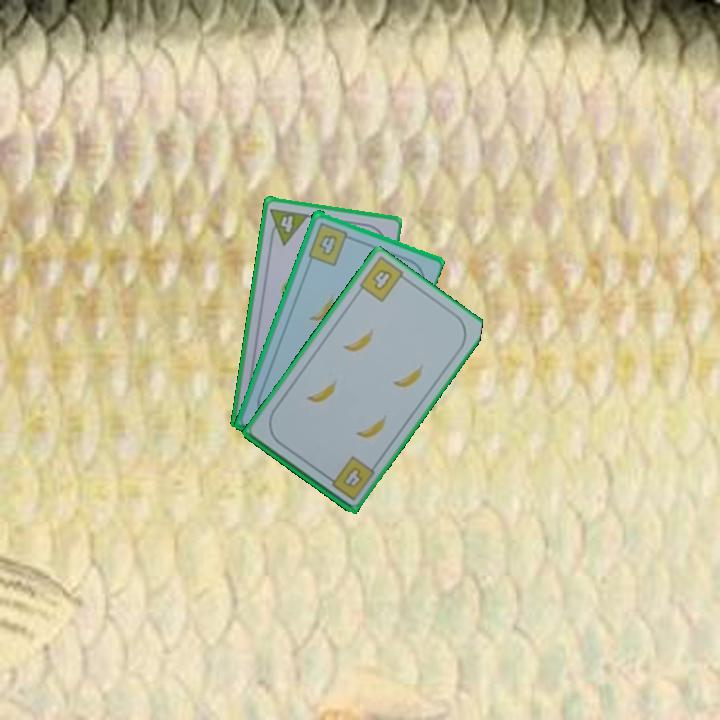4b: (322, 453, 377, 503), (304, 218, 356, 268), (369, 265, 395, 293)
4p: (265, 205, 311, 248)
